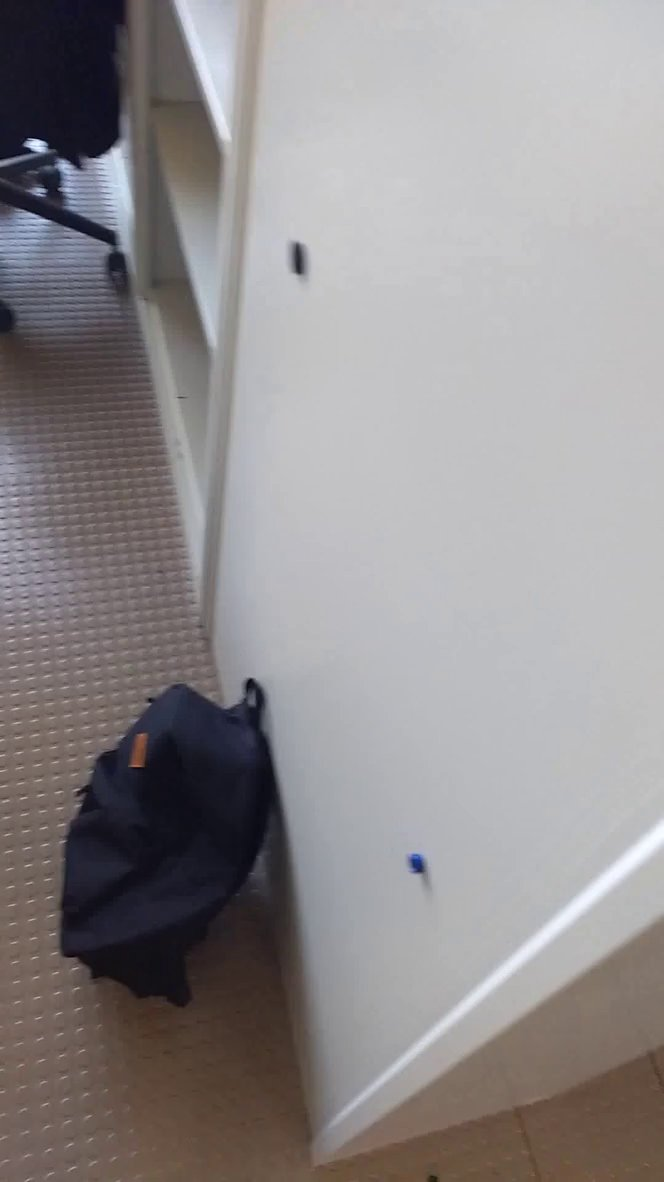bag: (31, 662, 309, 1024)
